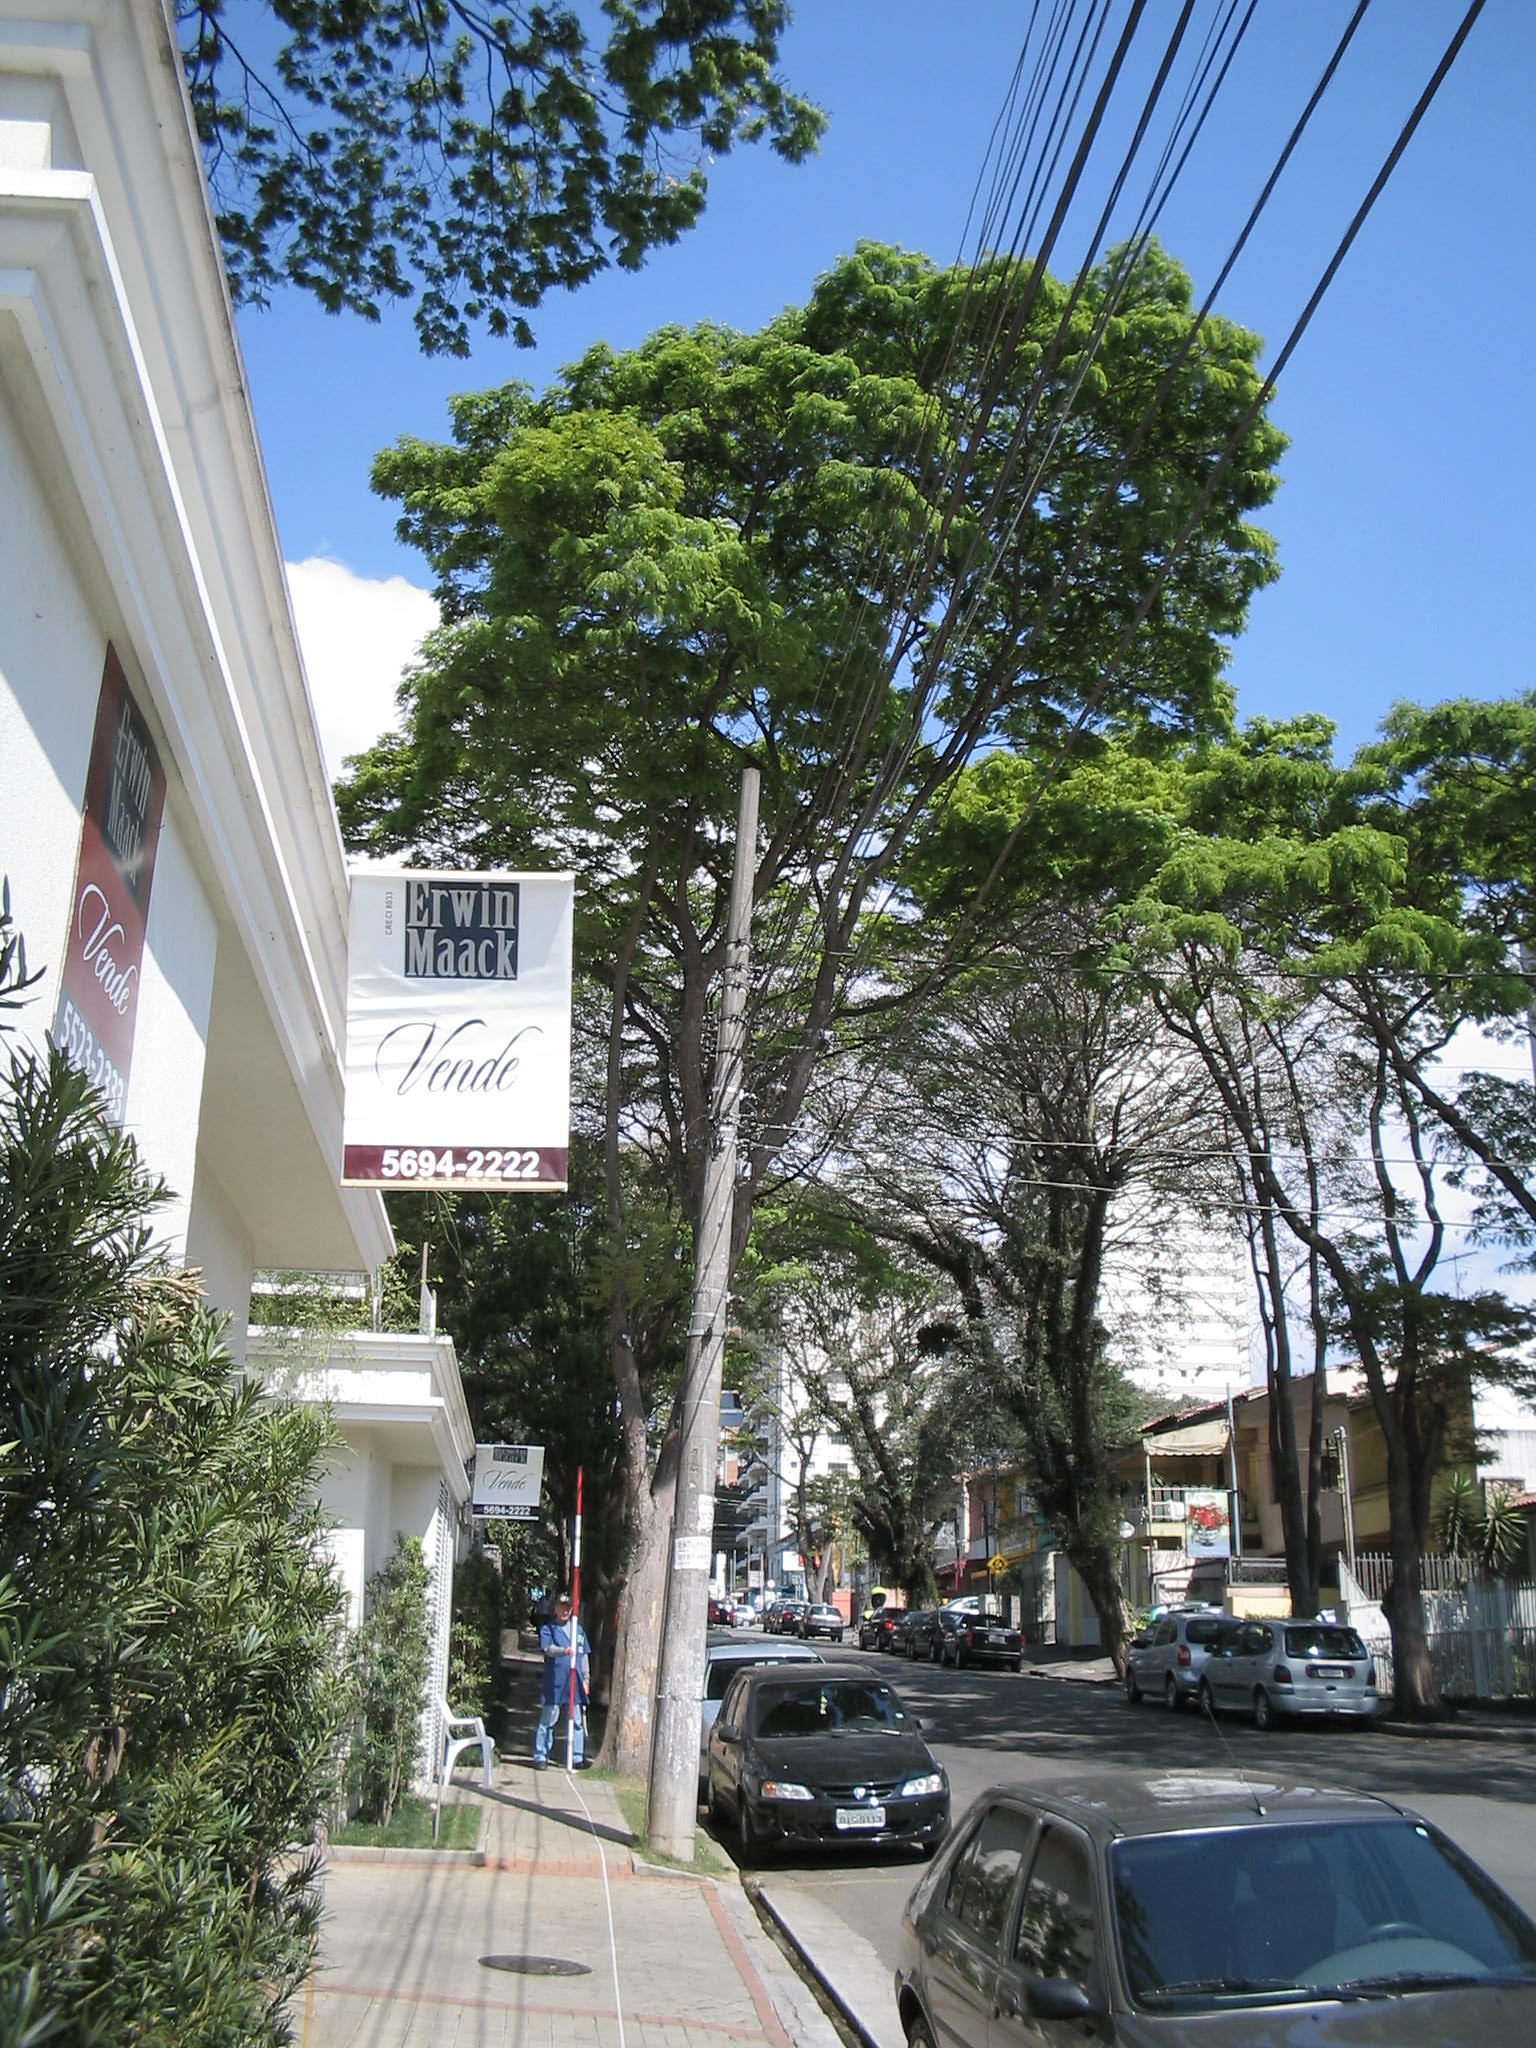crown: (332, 244, 1279, 1009)
stem: (599, 1496, 684, 1775), (1371, 1540, 1459, 1722), (1054, 1555, 1154, 1688)
stick: (553, 1459, 594, 1763)
tree: (324, 239, 1283, 1777), (1141, 710, 1533, 1725), (799, 980, 1254, 1685)
